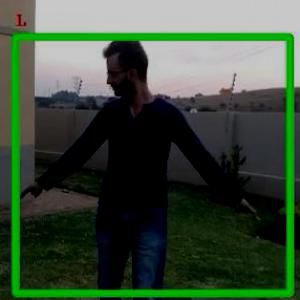land: (13, 29, 263, 299)
